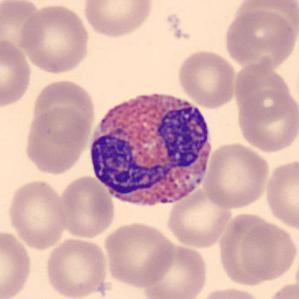Eosinophil: (84, 82, 217, 215)
RBC: (18, 3, 92, 75), (102, 219, 177, 288), (222, 4, 298, 71), (22, 104, 92, 176), (201, 141, 271, 211), (28, 78, 98, 144), (164, 184, 234, 249), (6, 178, 68, 250), (219, 210, 276, 288), (230, 58, 292, 128), (43, 235, 110, 299), (235, 88, 298, 154), (56, 173, 116, 240), (142, 242, 209, 299), (237, 221, 298, 283), (176, 48, 238, 109), (231, 0, 299, 52), (82, 0, 156, 39), (263, 156, 299, 231), (0, 0, 44, 61), (0, 36, 33, 110), (0, 228, 34, 299), (192, 286, 266, 299), (262, 280, 299, 299)
